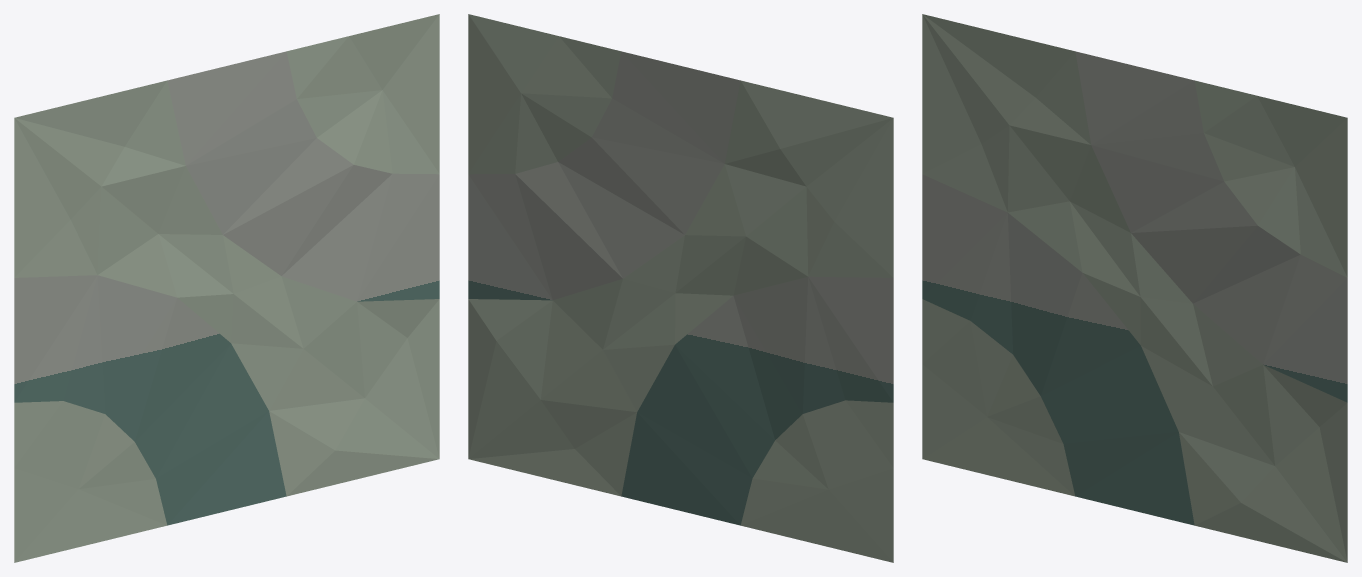
The model's file is ColoredWallpapper_05.fbx.
3 renders of one model, left to right at view 1: azimuth 30°, elevation 25°; view 2: azimuth 150°, elevation 25°; view 3: azimuth 330°, elevation 25°, orthographic.
Visible parts, largest first — view 1: ColoredWallpapper_05; view 2: ColoredWallpapper_05; view 3: ColoredWallpapper_05.
Boxes of the visible parts, box(x1,y1,x2,y2) form: ColoredWallpapper_05: box(14, 14, 439, 562); ColoredWallpapper_05: box(468, 14, 893, 562); ColoredWallpapper_05: box(922, 14, 1347, 562).
Bounding box in the file's own units: 100 × 100 × 1.68.
1 material, 1 textured.
